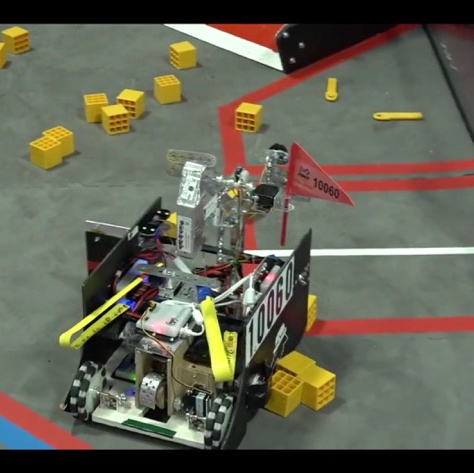robot: (55, 134, 362, 450)
